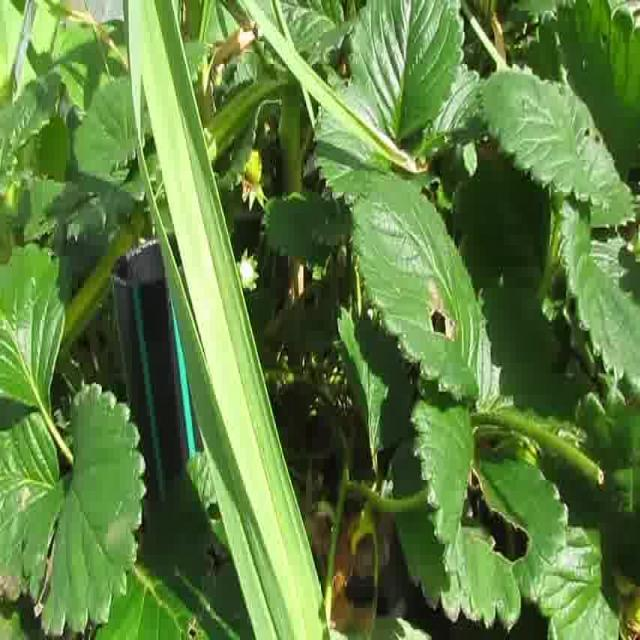Fruta sana: (244, 148, 264, 187)
